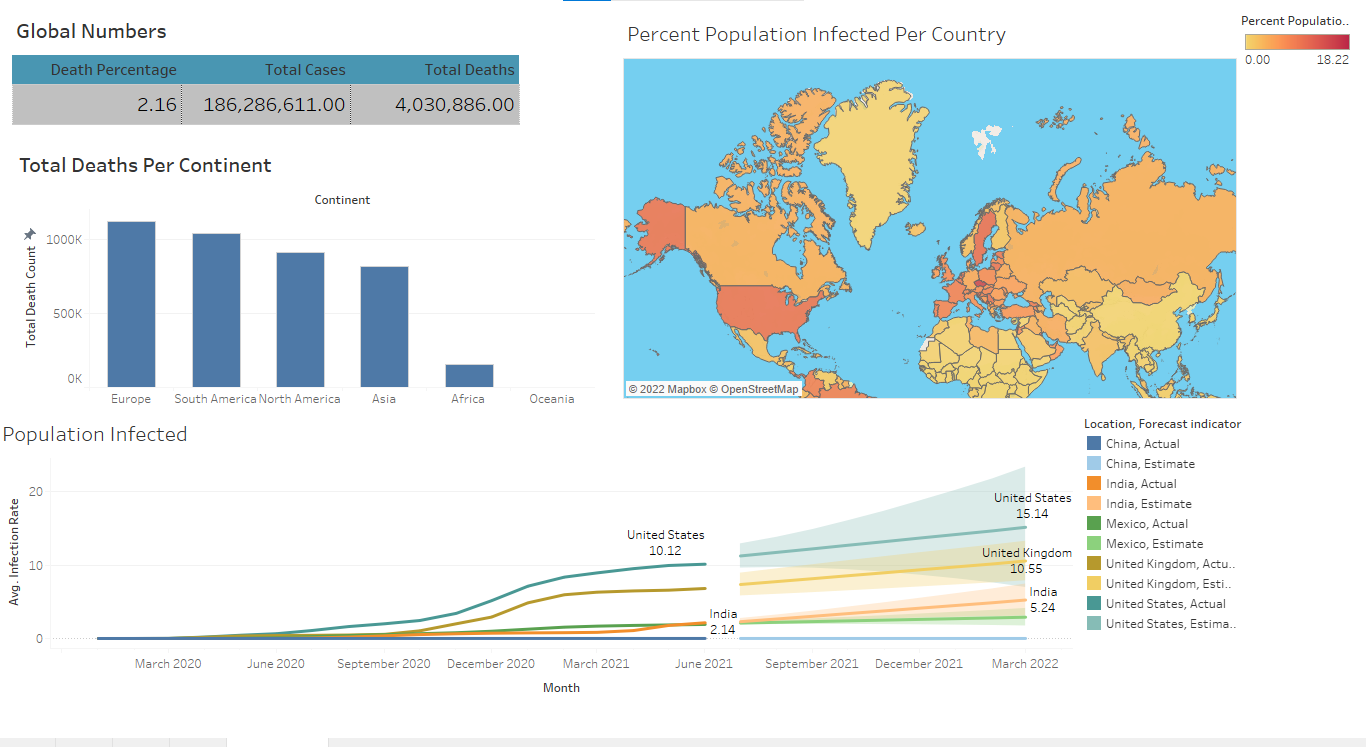

This screenshot's page, from the dashboard's own definition file:
{"tool":"tableau","page":{"name":"Dashboard 1","canvas":[1000,1000],"units":"permille","ordinal":0},"visuals":[{"type":"worksheet","title":"Sheet 1","mark":"Automatic","box":[5.9,10.8,899.8,978.3]},{"type":"legend","title":"Sheet 3","param":"[federated.1wei1ik00ib7hy14qgf010zg7p5y].[sum:infection_rate:qk]","box":[905.6,10.8,88.5,978.3]},{"type":"worksheet","title":"Sheet 3","mark":"Automatic","box":[456.3,20.3,449.5,535.5]},{"type":"worksheet","title":"Sheet 2","mark":"Automatic","rows":["TotalDeathCount"],"cols":["location"],"box":[11.1,197.6,424.7,354.7]},{"type":"legend","title":"Sheet 4","param":"[federated.1kr6oau14xchfe1apxafu09benq4].[none:location:nk]\n[federated.1kr6oau14","box":[793.7,562.5,115.6,368.2]}]}

Visuals, with their boxes on the dashboard's canvas, which has no fixed pixel size, in thousandths of its width and height (x1, y1, x2, y2). These are canvas units, not pixel positions in the 1366x747 screenshot, which may show the page scaled, cropped or inside an application window:
"Sheet 1" worksheet: 6, 11, 906, 989
"Sheet 3" legend: 906, 11, 994, 989
"Sheet 3" worksheet: 456, 20, 906, 556
"Sheet 2" worksheet: 11, 198, 436, 552
"Sheet 4" legend: 794, 562, 909, 931
